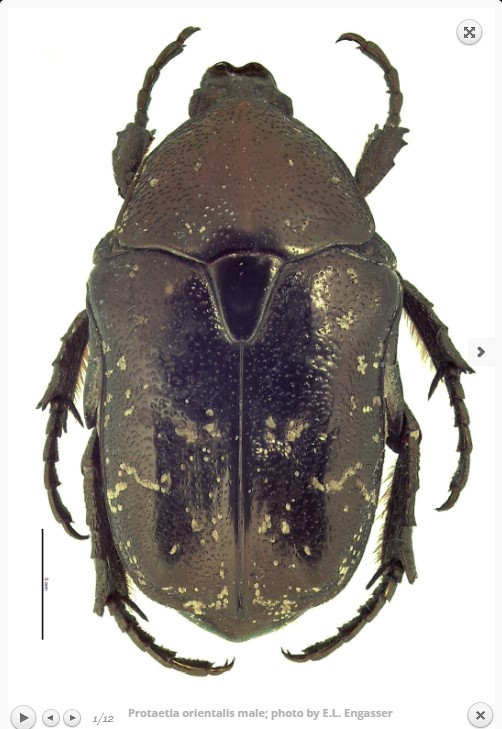Protaetia _orientalis: (41, 18, 466, 683)
